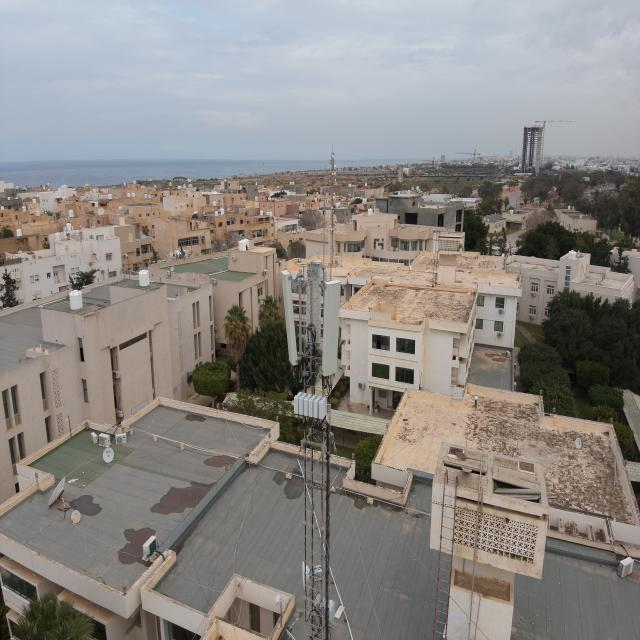antenna: (322, 279, 342, 376), (280, 268, 298, 367), (305, 260, 322, 350)
lighnig-rad: (322, 167, 326, 270)
microware-dish: (301, 560, 323, 591)
power-box: (309, 594, 338, 621)
radio-unit: (292, 388, 330, 421)
